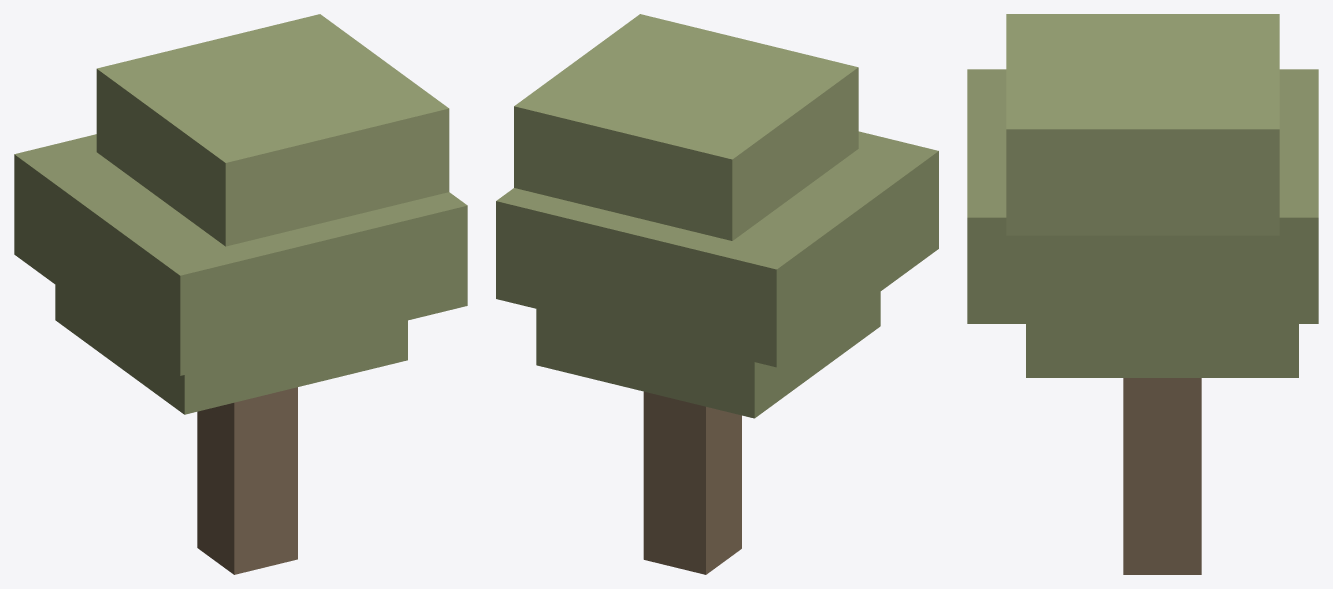
The model's file is tamarisco_03.glb.
The picture shows the model from 3 angles, left to right: view 1: azimuth 30°, elevation 25°; view 2: azimuth 150°, elevation 25°; view 3: azimuth 270°, elevation 25°; orthographic projection. The views are drawn at different scales.
Parts seen in each view (by area): view 1: tamarisco_03; view 2: tamarisco_03; view 3: tamarisco_03.
Part boxes in pixels (x1,y1,x2,y2): tamarisco_03: (14, 14, 467, 574); tamarisco_03: (496, 14, 938, 574); tamarisco_03: (967, 14, 1318, 574).
Size of the model in its own units: 1.8 by 2.8 by 1.8.
